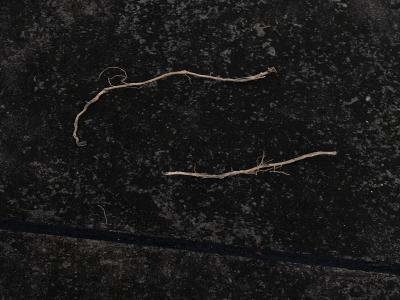Root: (72, 67, 277, 146), (163, 151, 337, 179)
